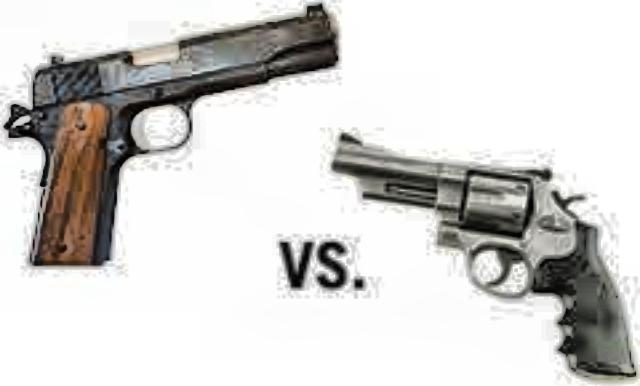pistol: (6, 0, 338, 264), (326, 122, 632, 384)
